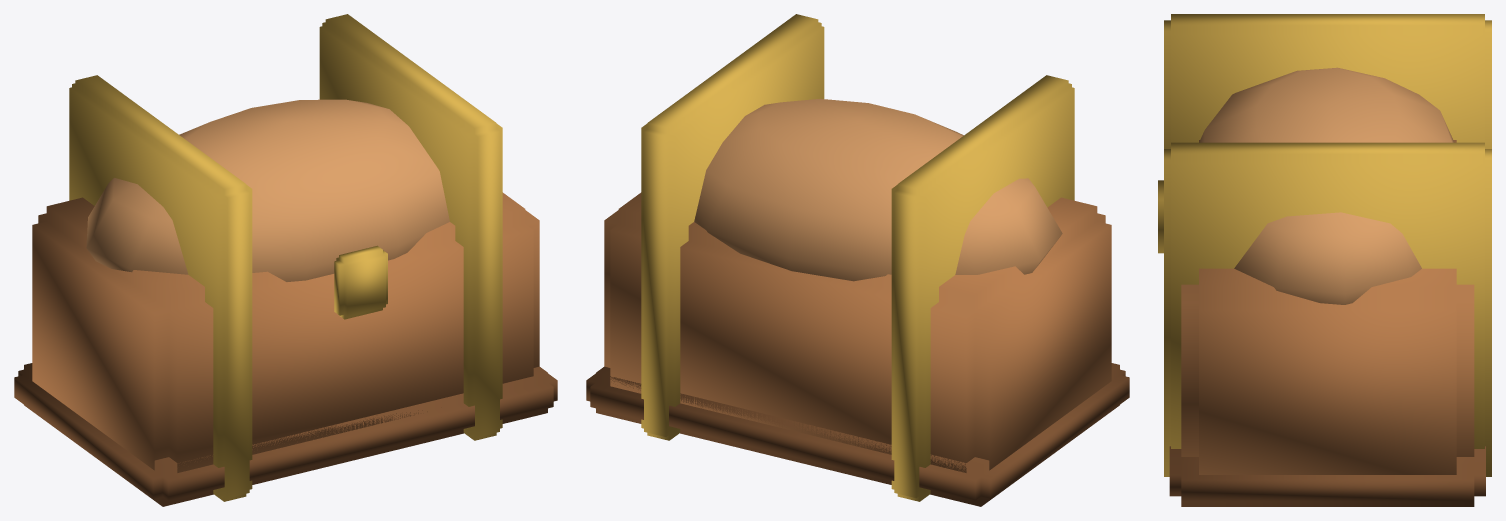
Rendered from bau.glb.
The picture shows the model from 3 angles, left to right: view 1: azimuth 30°, elevation 25°; view 2: azimuth 150°, elevation 25°; view 3: azimuth 270°, elevation 25°; orthographic projection. The views are drawn at different scales.
Visible parts, largest first — view 1: Bau; view 2: Bau; view 3: Bau.
Part boxes in pixels (<box>): Bau: <box>14,14,557,506</box>; Bau: <box>586,14,1129,506</box>; Bau: <box>1158,14,1491,506</box>.
Size of the model in its own units: 0.84 by 0.62 by 0.57.
